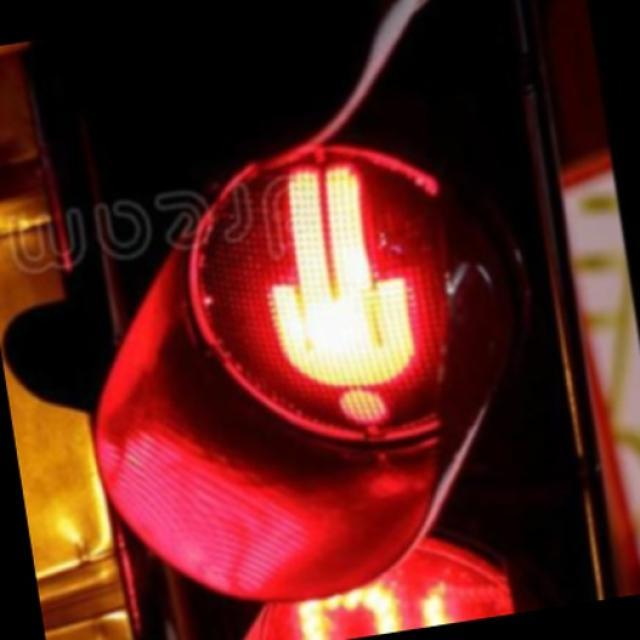red_light: (79, 111, 555, 524)
